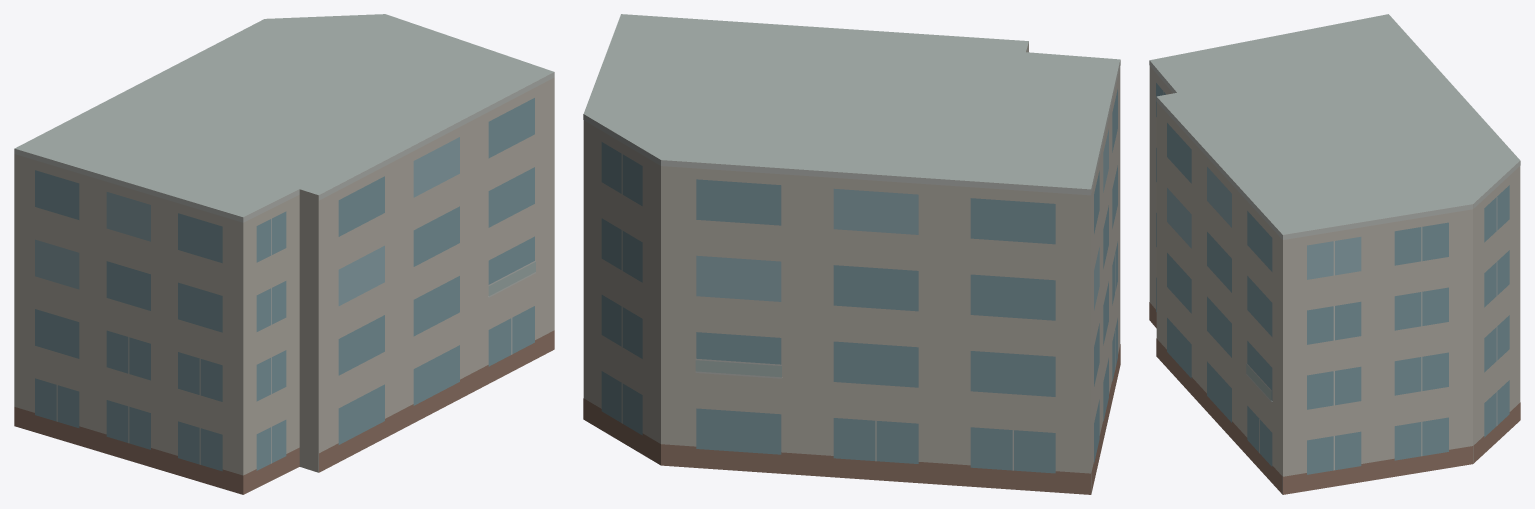
Rendered from survey-upis-33043465.glb.
3 views of the same model, side by side, from view 1: azimuth 30°, elevation 25°; view 2: azimuth 150°, elevation 25°; view 3: azimuth 270°, elevation 25° (orthographic). The views are drawn at different scales.
Visible parts, largest first — view 1: survey-upis-33043465.tmp; view 2: survey-upis-33043465.tmp; view 3: survey-upis-33043465.tmp.
Boxes of the visible parts, x1,y1,x2,y2 form: survey-upis-33043465.tmp: (14,14,554,494); survey-upis-33043465.tmp: (583,14,1120,494); survey-upis-33043465.tmp: (1149,14,1520,494).
Bounding box in the file's own units: 22.62 × 12.4 × 16.05.
